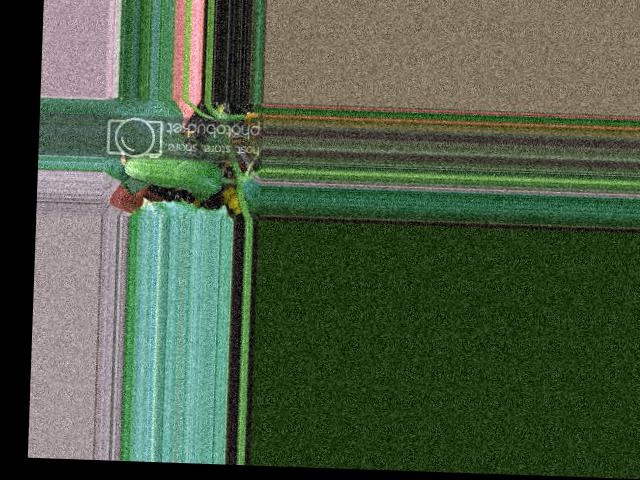cucumber: (122, 151, 222, 194)
